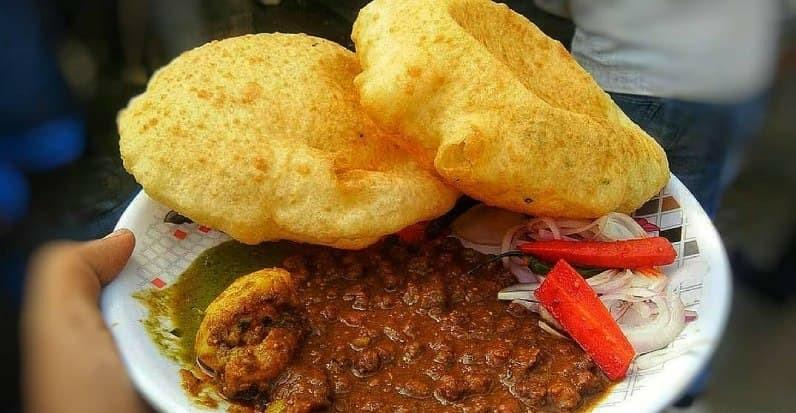Bhatura: (118, 0, 669, 247)
Chole: (218, 244, 605, 413)
